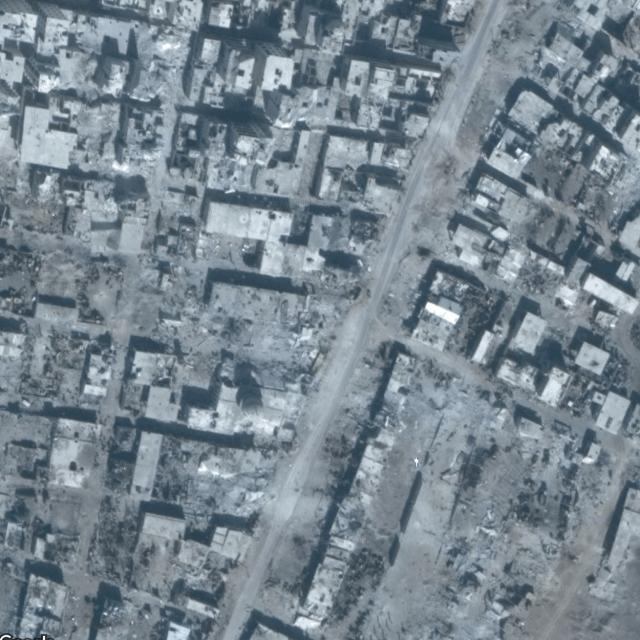damaged_building: (0, 0, 383, 638), (247, 266, 625, 634), (520, 134, 638, 232)
